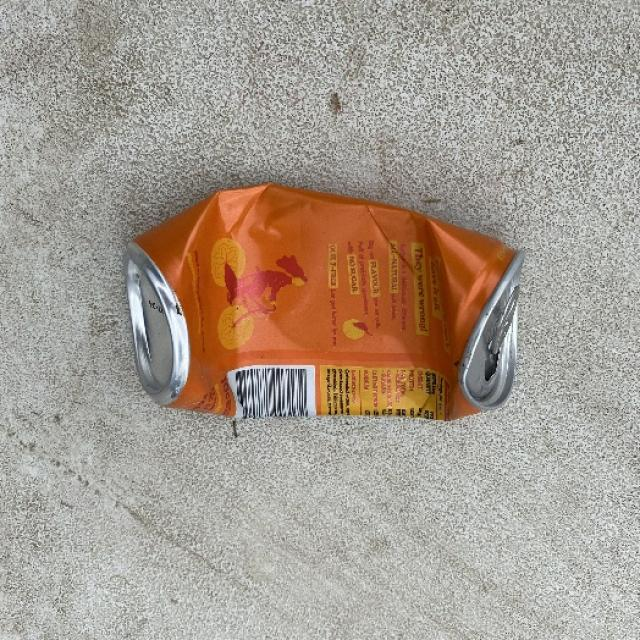metal: (122, 181, 525, 421)
